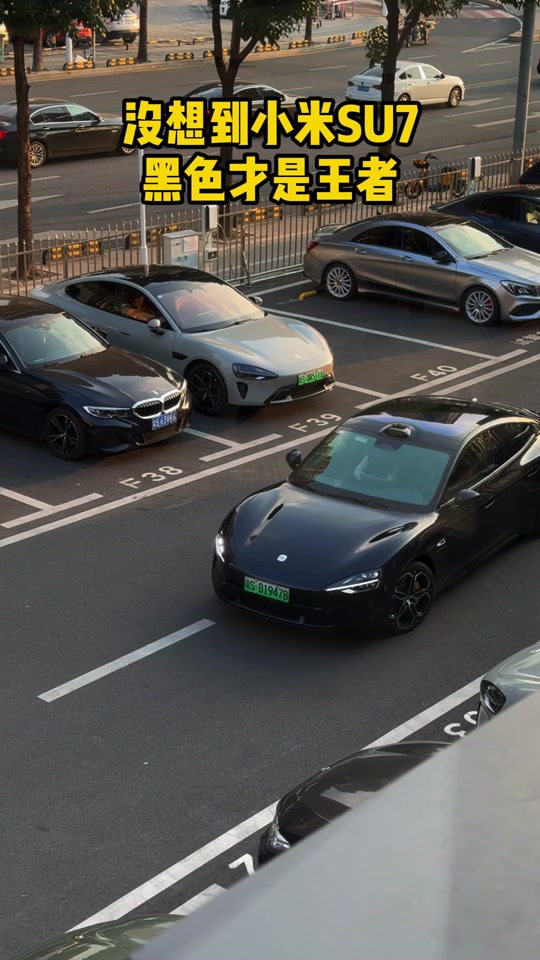other: (0, 300, 195, 457), (301, 195, 540, 320), (0, 97, 144, 160), (348, 39, 484, 104)
su7: (204, 388, 540, 655), (45, 259, 361, 407)
